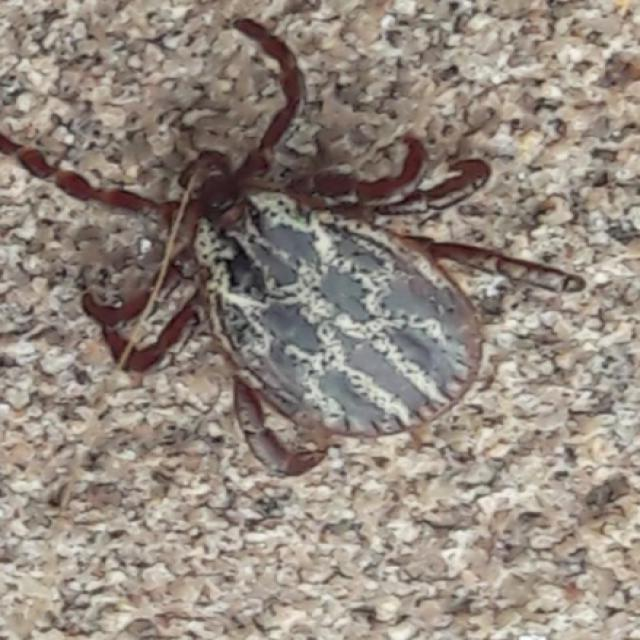Dermacentor Reticulatus-M: (0, 17, 588, 476)
